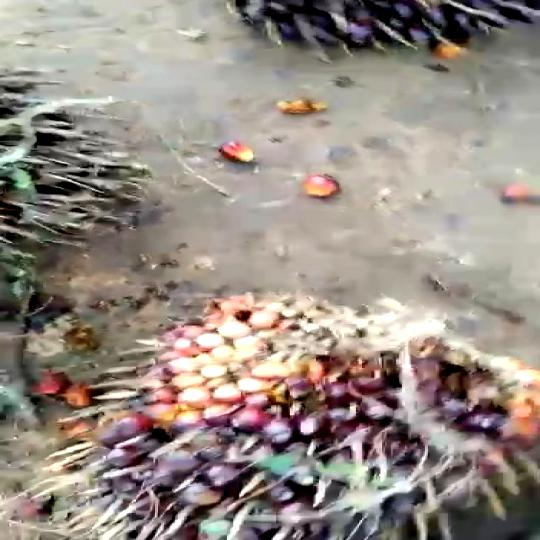masak: (71, 282, 540, 539)
